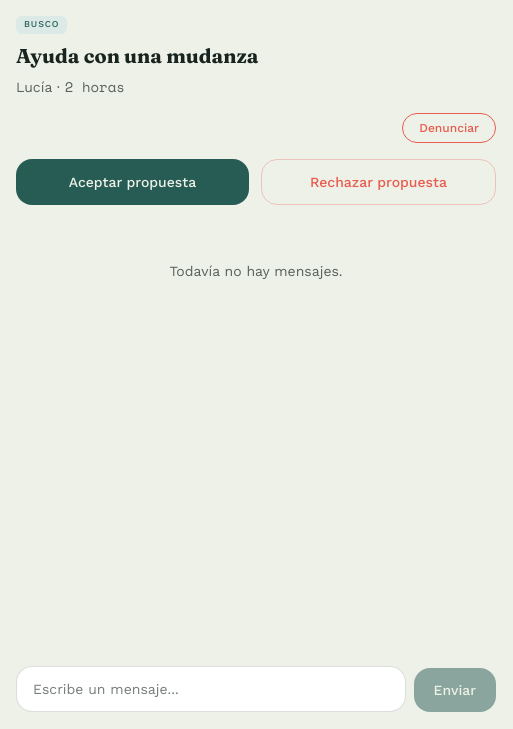
Test: Aceptar o rechazar la propuesta desde el chat › al rechazar desaparecen las dos opciones y no se puede confirmar
Click the button "Rechazar propuesta": (378, 182) x1=261 y1=159 x2=496 y2=205
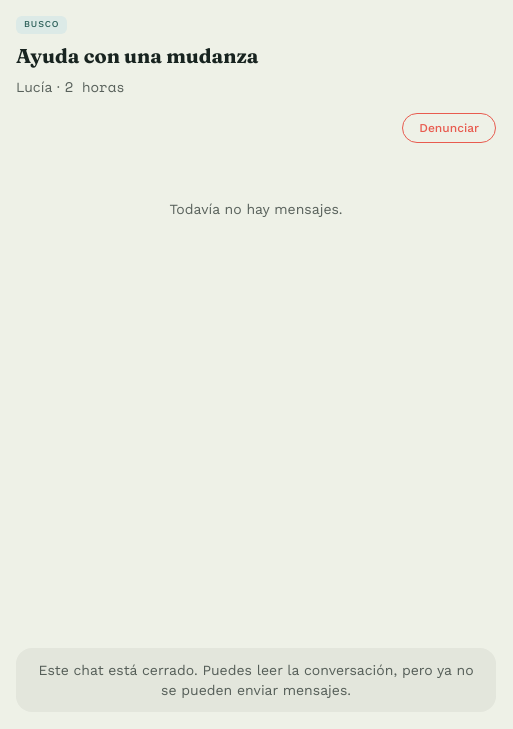
Now the button "Rechazar propuesta" is gone
Now the button "Aceptar propuesta" is gone
